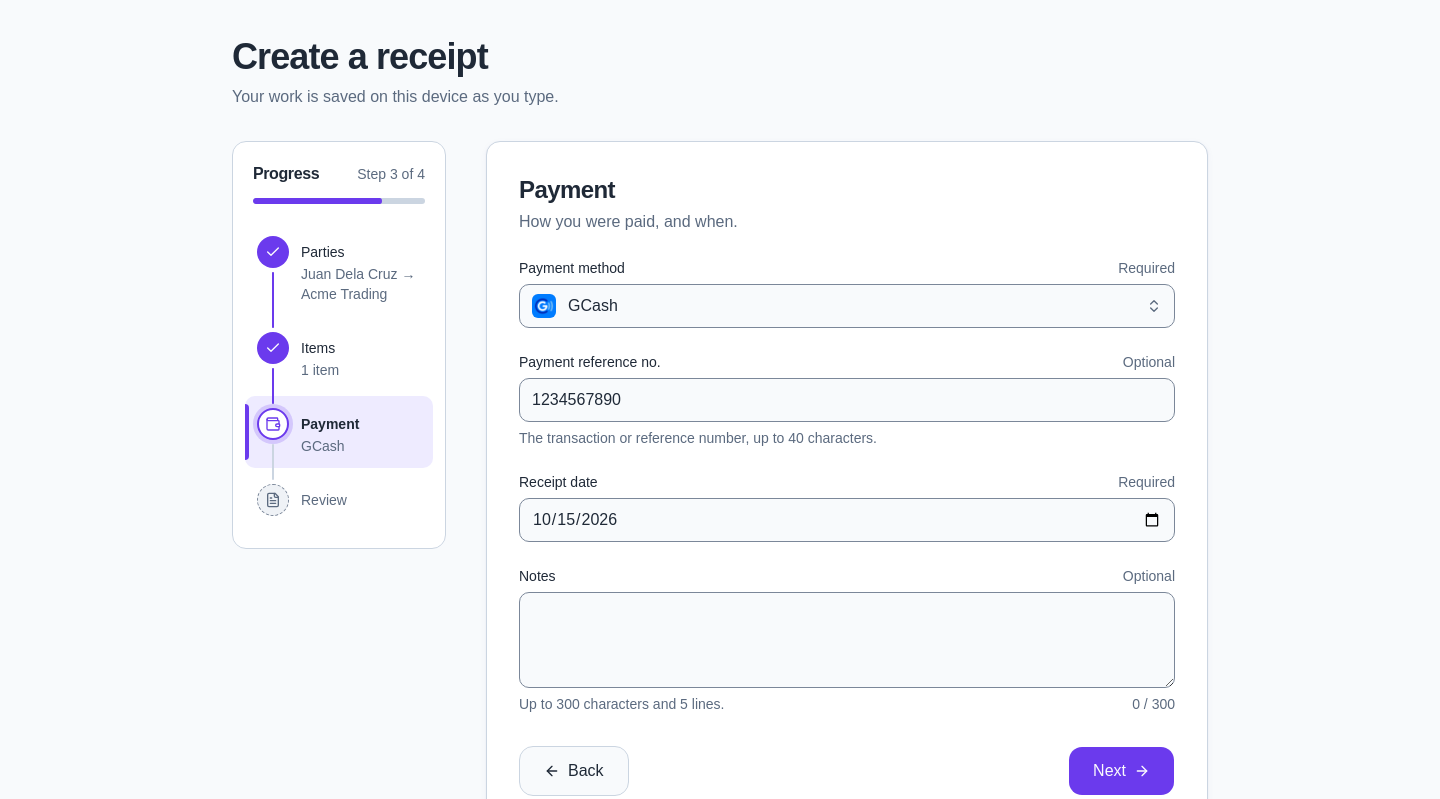
Test: the timeline › makes later steps upcoming again after going back
The image size is (1440, 799).
Click the button "Back".
click(574, 771)  # box [519,746,629,796]
(page scrolled)
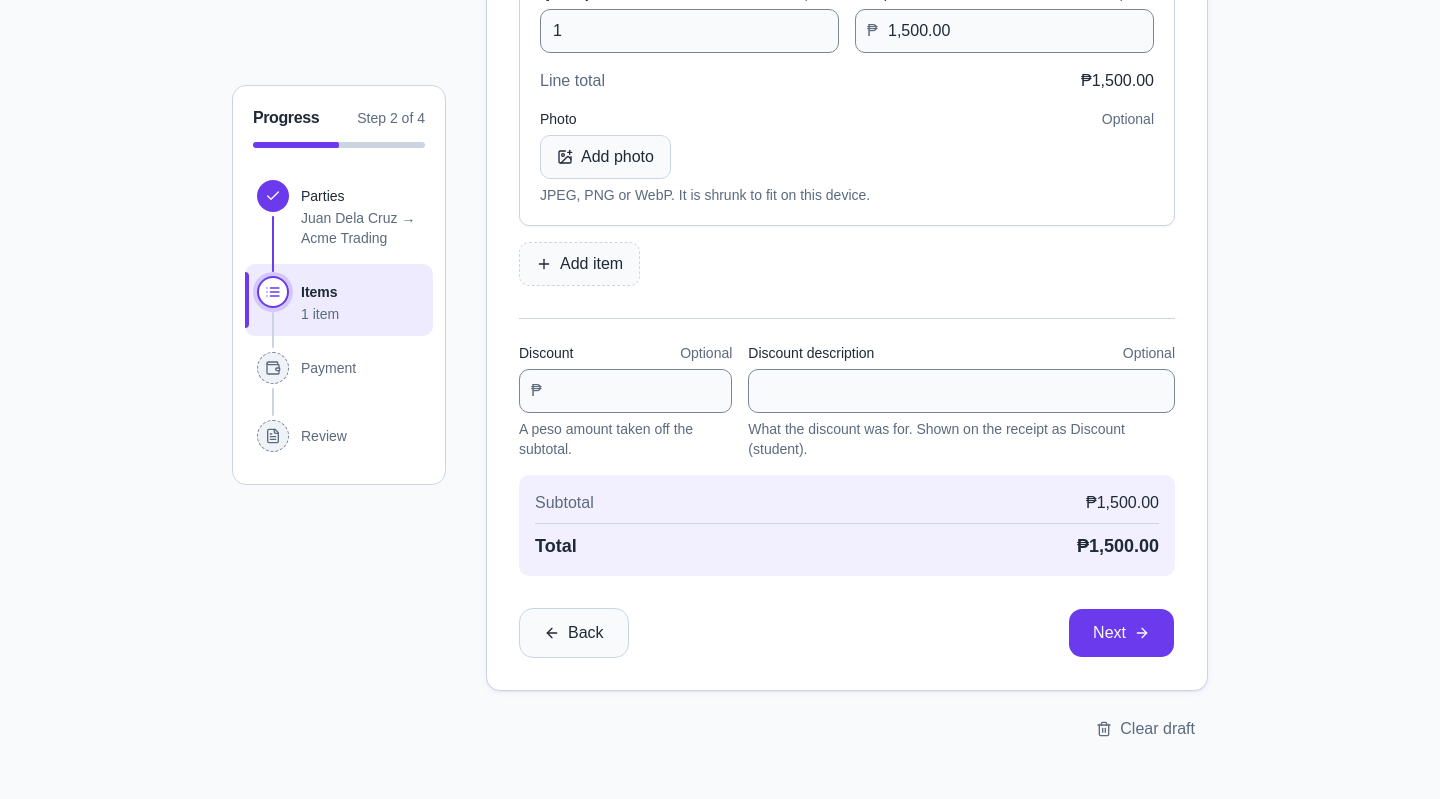
Click the button "Back".
click(574, 633)  # box [519,608,629,658]
(page scrolled)
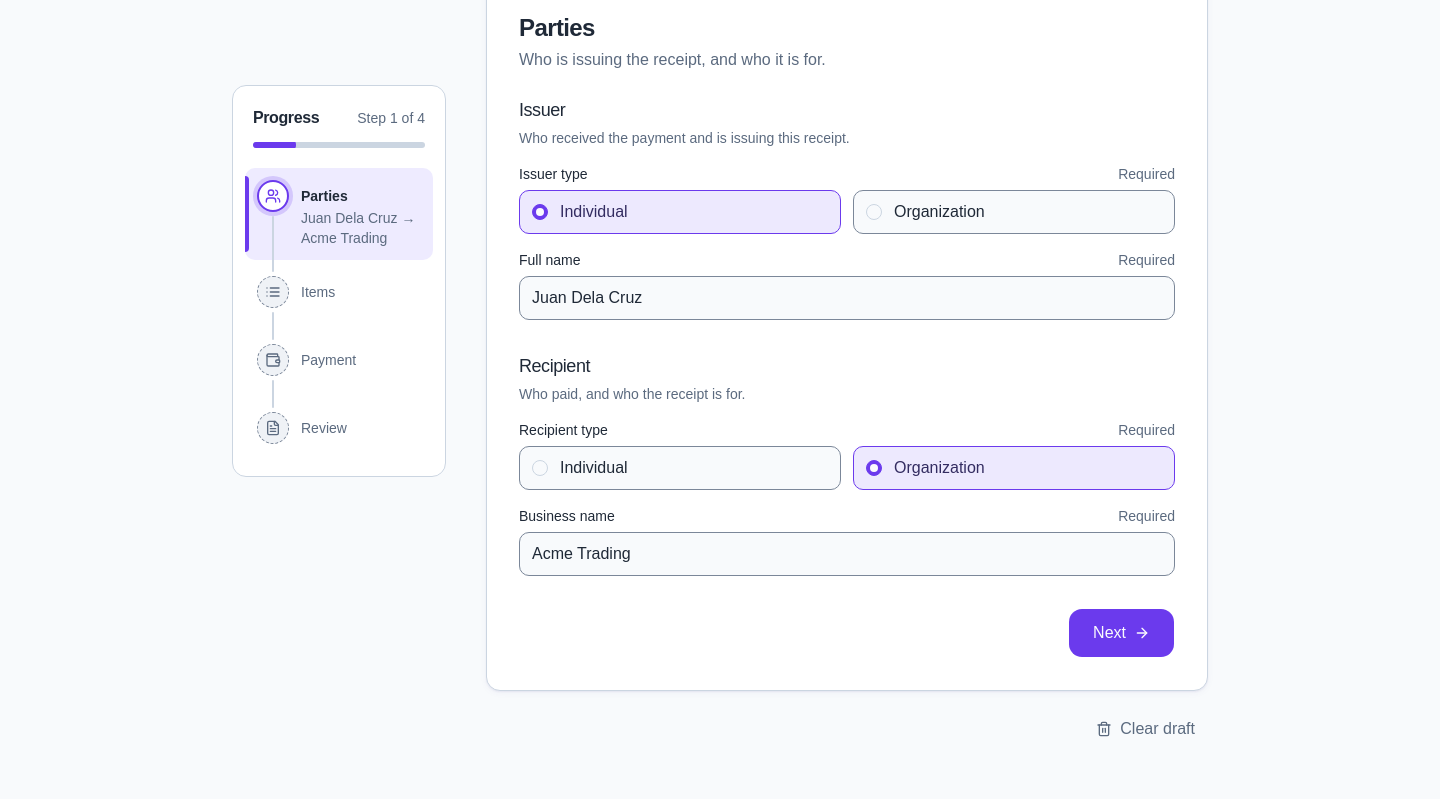
Now no the button "Add photo" are shown
